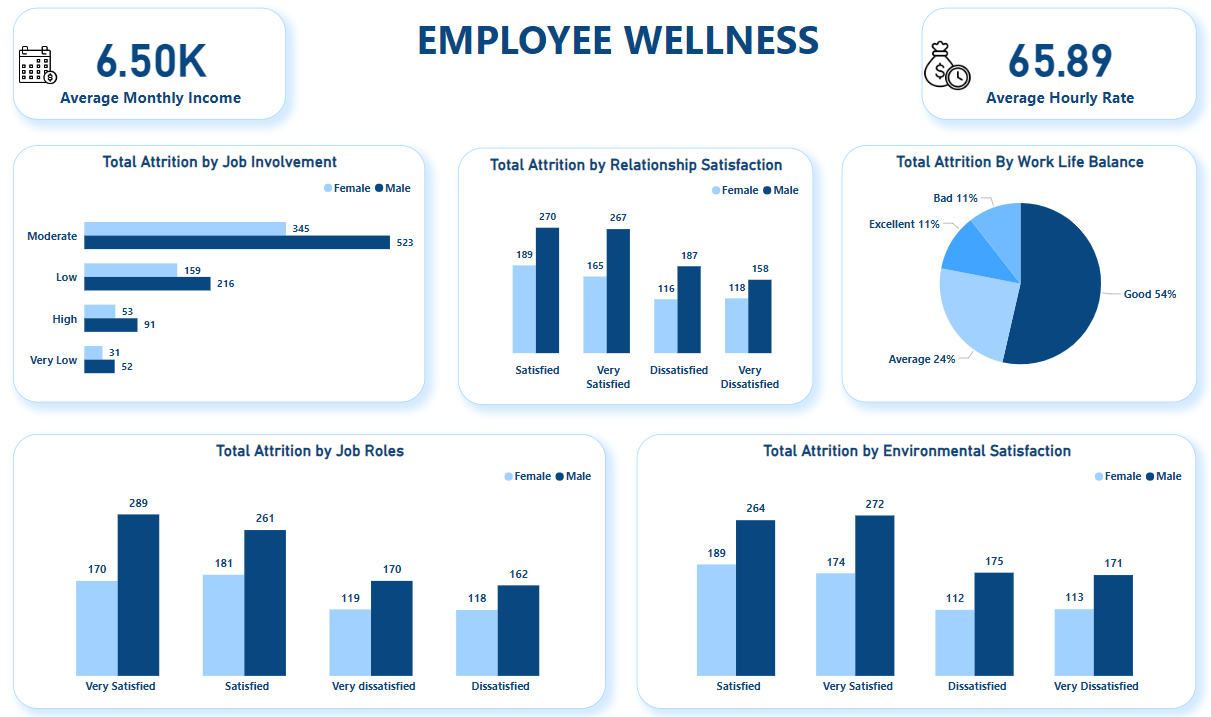

The page's visual inventory and layout, read from the dashboard file:
{"tool":"powerbi","page":{"name":"WELLNESS","canvas":[1500,900],"ordinal":4},"visuals":[{"type":"card","fields":{"Values":["Avg(HR-Employee-Attrition.MonthlyIncome)"]},"box":[24,16.8,333.7,136.9],"z":0},{"type":"clusteredColumnChart","title":"Total Attrition by Job Roles","fields":{"Category":["HR-Employee-Attrition.JobSatisfaction (groups)"],"Y":["CountNonNull(HR-Employee-Attrition.Attrition)"],"Series":["HR-Employee-Attrition.Gender"]},"box":[24,537.8,725.1,336.1],"z":1000},{"type":"card","fields":{"Values":["Avg(HR-Employee-Attrition.HourlyRate)"]},"box":[1135.6,16.8,336.1,136.9],"z":2000},{"type":"pieChart","title":"Total Attrition By Work Life Balance","fields":{"Y":["Sum(HR-Employee-Attrition.Attrition number)"],"Category":["HR-Employee-Attrition.WorkLifeBalance (groups)"]},"box":[1037.2,184.9,434.6,314.5],"z":3000},{"type":"clusteredColumnChart","title":"Total Attrition by Environmental Satisfaction","fields":{"Category":["HR-Employee-Attrition.EnvironmentSatisfaction (groups)"],"Y":["CountNonNull(HR-Employee-Attrition.Attrition)"],"Series":["HR-Employee-Attrition.Gender"]},"box":[787.5,537.8,684.3,336.1],"z":4000},{"type":"clusteredBarChart","title":"Total Attrition by Job Involvement ","fields":{"Category":["HR-Employee-Attrition.JobInvolvement (groups)"],"Y":["CountNonNull(HR-Employee-Attrition.Attrition)"],"Series":["HR-Employee-Attrition.Gender"]},"box":[24,184.9,504.2,314.5],"z":5000},{"type":"textbox","box":[206.5,16.2,1115.6,147.8],"z":6000},{"type":"clusteredColumnChart","title":"Total Attrition by Relationship Satisfaction","fields":{"Y":["CountNonNull(HR-Employee-Attrition.Attrition)"],"Series":["HR-Employee-Attrition.Gender"],"Category":["HR-Employee-Attrition.RelationshipSatisfaction (groups)"]},"box":[569,187.3,434.6,314.5],"z":7000},{"type":"image","box":[24,57.6,60,57.6],"z":8000},{"type":"image","box":[1130.8,48,72,79.2],"z":9000}]}

Visuals, with their boxes in screenshot pixels (x1, y1, x2, y2), scaled from the page's 1500x900 canvas onto the 1211x717 screenshot:
card - Avg(HR-Employee-Attrition.MonthlyIncome): <bbox>19, 13, 289, 122</bbox>
"Total Attrition by Job Roles" clusteredColumnChart: <bbox>19, 428, 605, 696</bbox>
card - Avg(HR-Employee-Attrition.HourlyRate): <bbox>917, 13, 1188, 122</bbox>
"Total Attrition By Work Life Balance" pieChart: <bbox>837, 147, 1188, 398</bbox>
"Total Attrition by Environmental Satisfaction" clusteredColumnChart: <bbox>636, 428, 1188, 696</bbox>
"Total Attrition by Job Involvement " clusteredBarChart: <bbox>19, 147, 426, 398</bbox>
textbox: <bbox>167, 13, 1067, 131</bbox>
"Total Attrition by Relationship Satisfaction" clusteredColumnChart: <bbox>459, 149, 810, 400</bbox>
image: <bbox>19, 46, 68, 92</bbox>
image: <bbox>913, 38, 971, 101</bbox>
